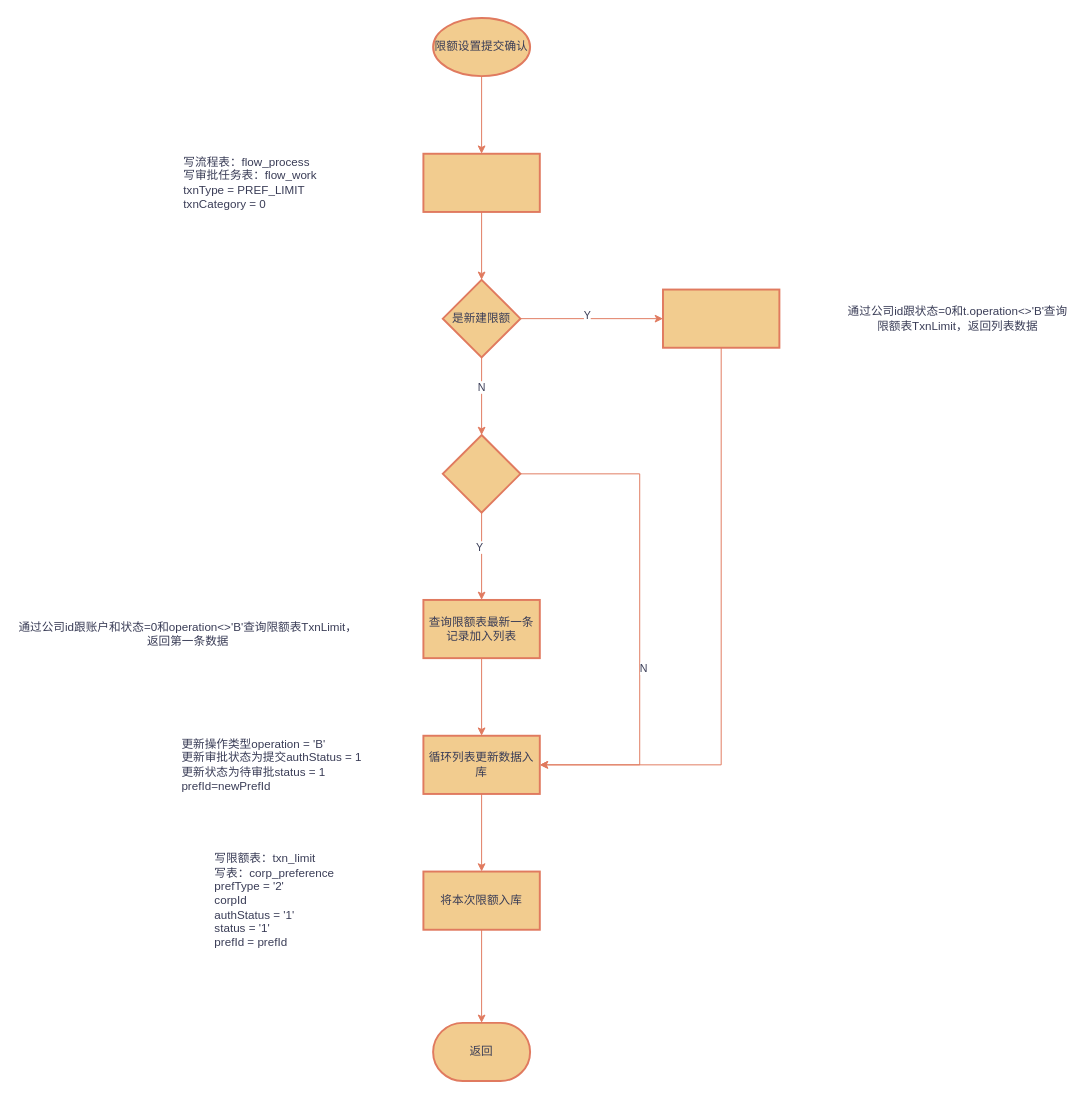
This 1085x1098 diagram has some shape labels left out. The shapes that lost their labels are listed below. From the top down, each one's box as (x1, y1, x2, y2) in pixels, then its label:
(422, 152, 540, 212): 创建审批流程
(662, 288, 780, 348): 查询限额列表加入列表
(441, 434, 521, 513): 是更新操作
